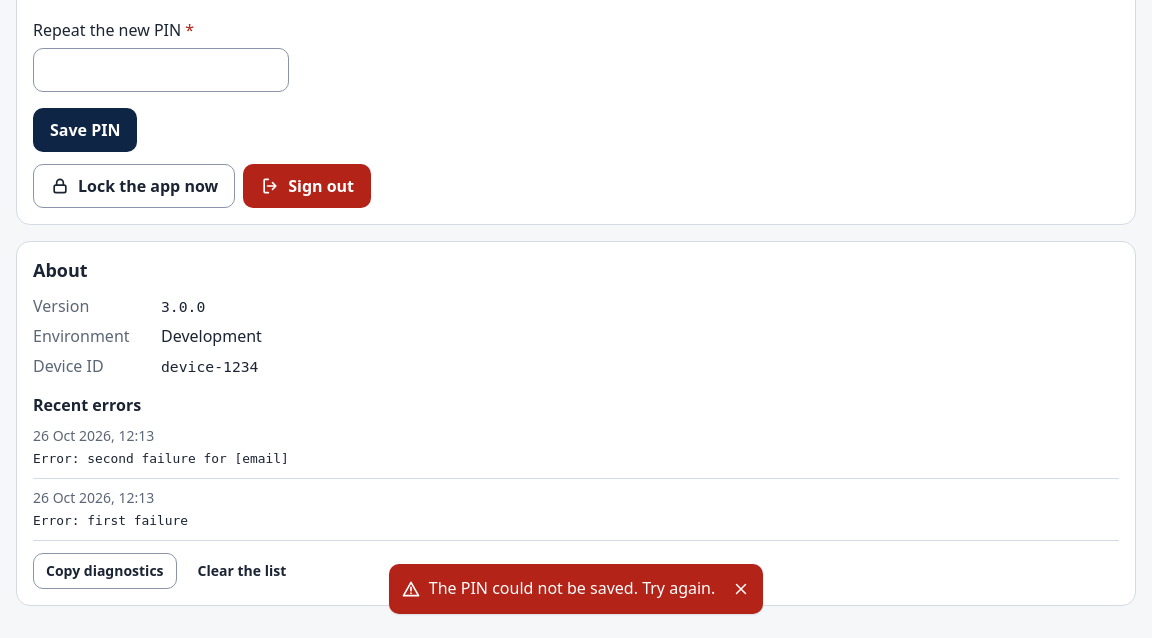
Test: about › lists the last errors (newest first) and clears them
(page scrolled)
Click the button with test id "about-clear" at [242, 571], box [184,553,299,589]
(page scrolled)
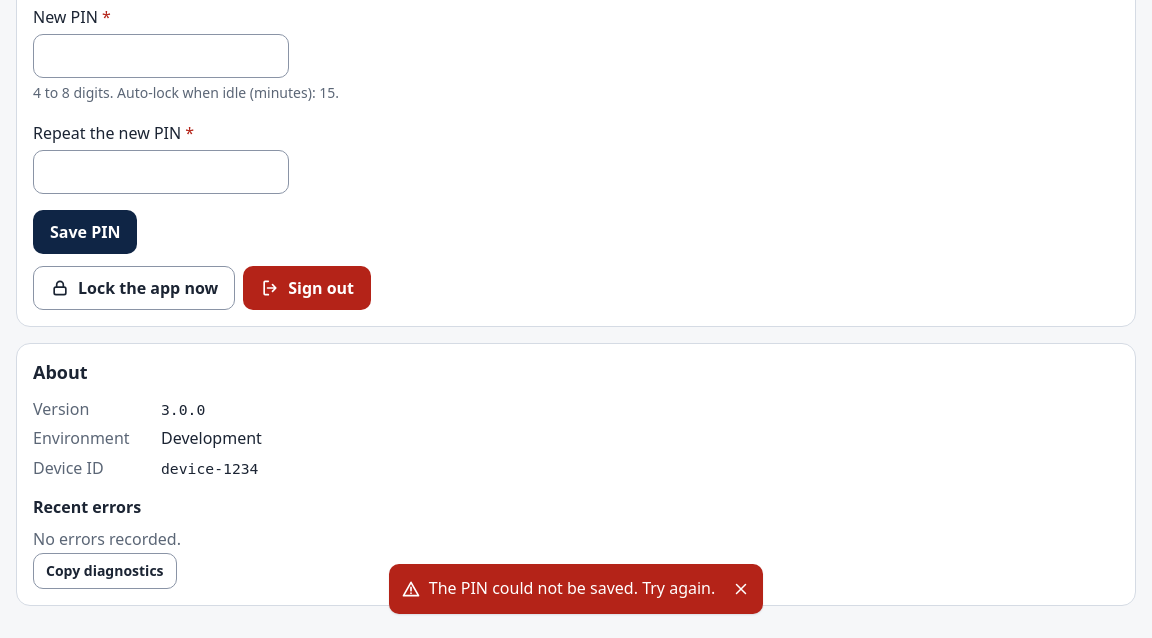
expect the text "No errors recorded." is shown: met, box [33,528,181,550]
